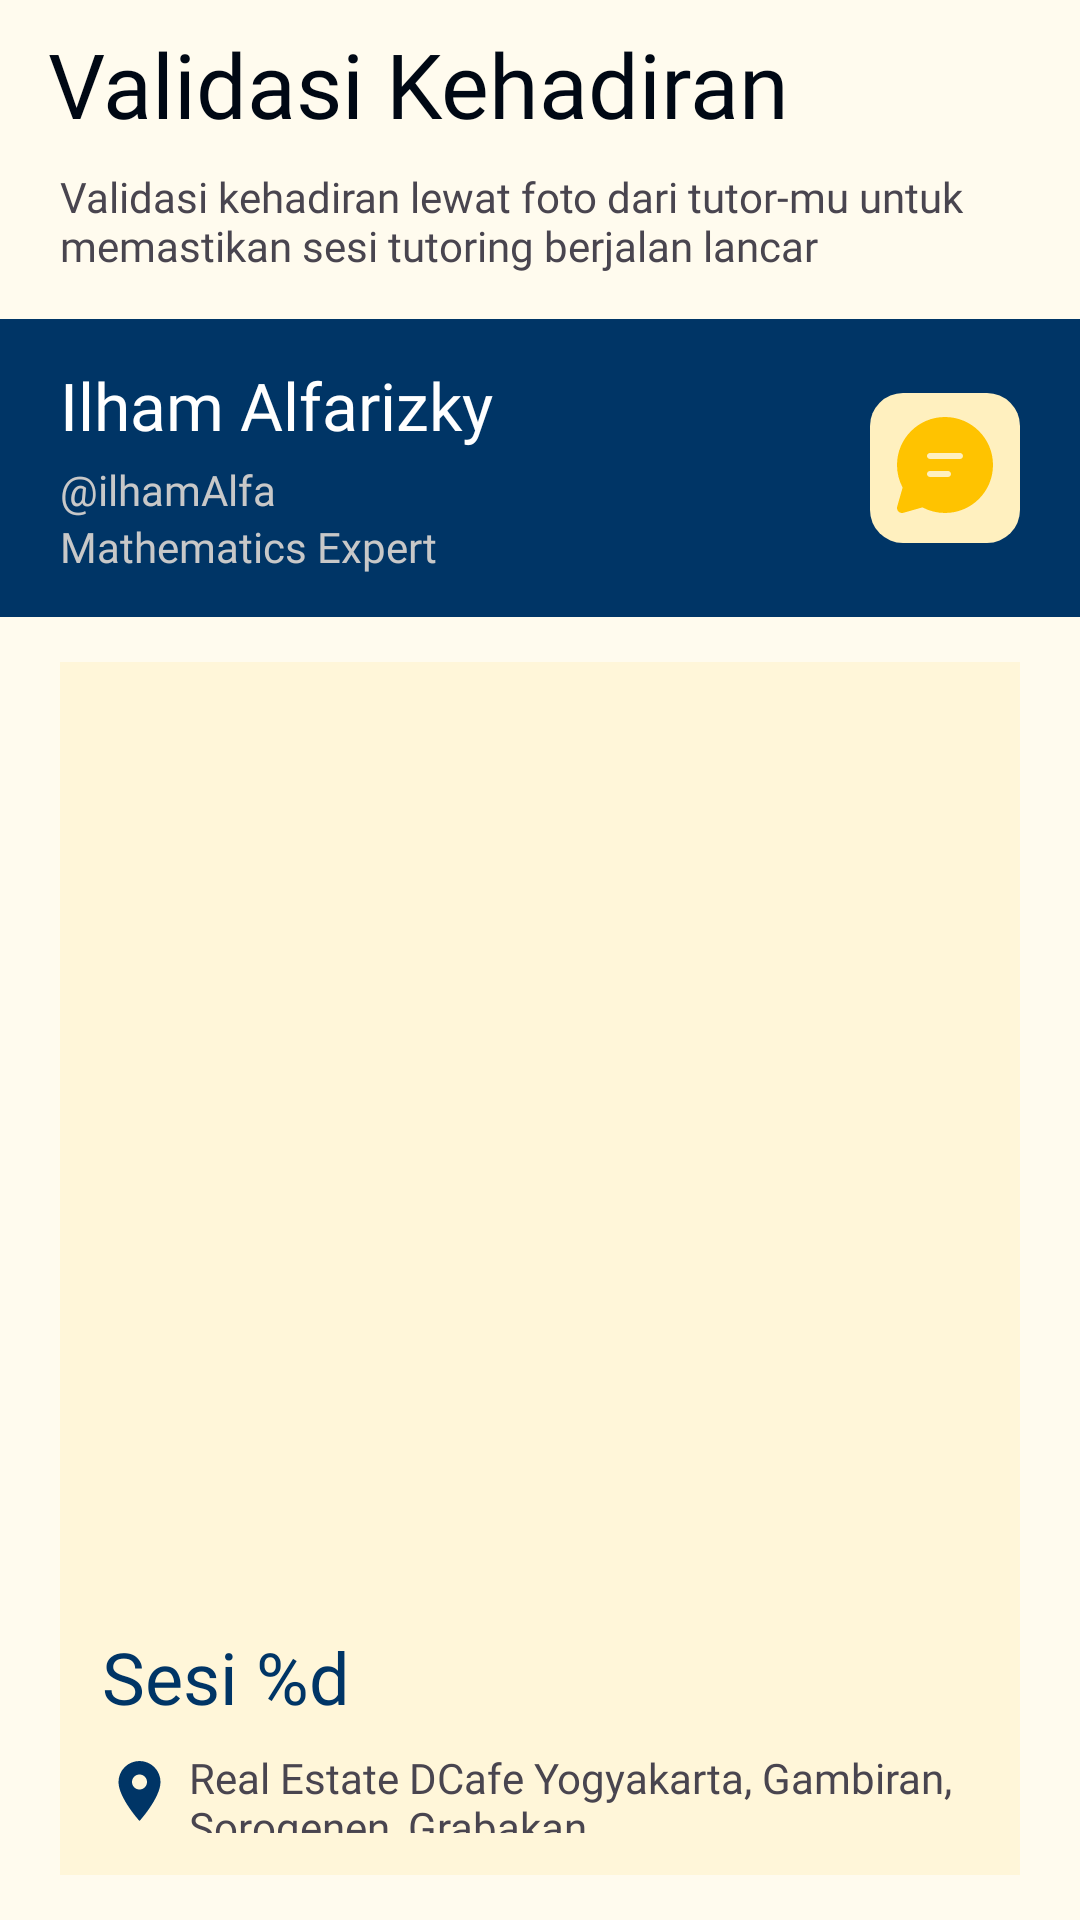

Named icons in this screenshot (1080×1920) and their bounding boxes, (x1=x1, y1=y1, x2=x2, y2=y2):
chat button: (x1=870, y1=393, x2=1020, y2=543)
